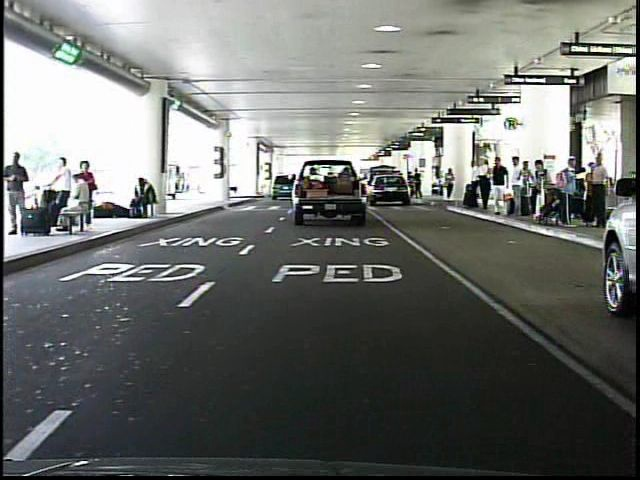person: (9, 151, 38, 240), (486, 154, 511, 223), (507, 154, 529, 220), (463, 155, 484, 213), (442, 166, 458, 204), (414, 168, 424, 203), (406, 168, 415, 201)
